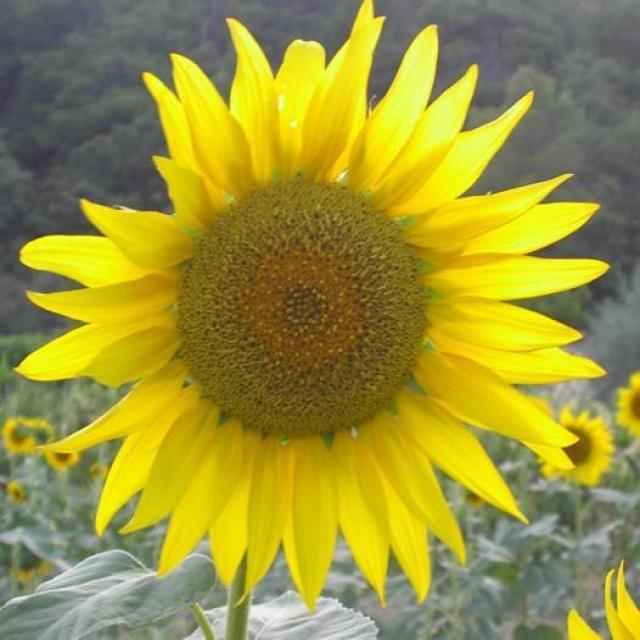sunflower: (9, 7, 612, 612), (559, 558, 640, 638), (538, 407, 614, 490), (12, 534, 57, 588), (614, 366, 640, 438), (2, 417, 42, 456), (455, 476, 493, 516), (44, 442, 84, 467), (3, 476, 30, 509)
